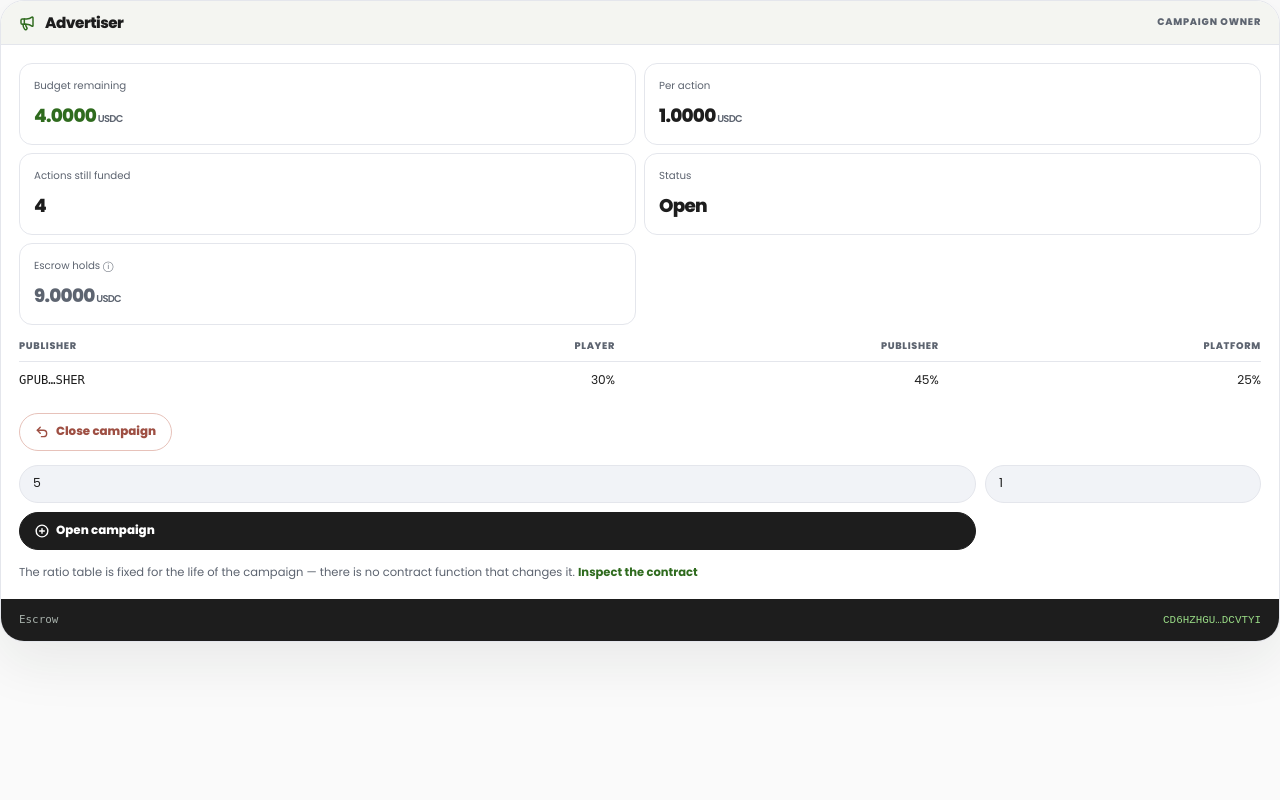
Test: advertiser panel › shows what the refund returned when the campaign is closed
The width and height of the screenshot is (1280, 800).
Check: the text "Budget remaining" is shown, box top-left (34, 78), bottom-right (126, 93)
Step 1. Click the button "Close campaign" → (96,432), box top-left (19, 412), bottom-right (172, 450)
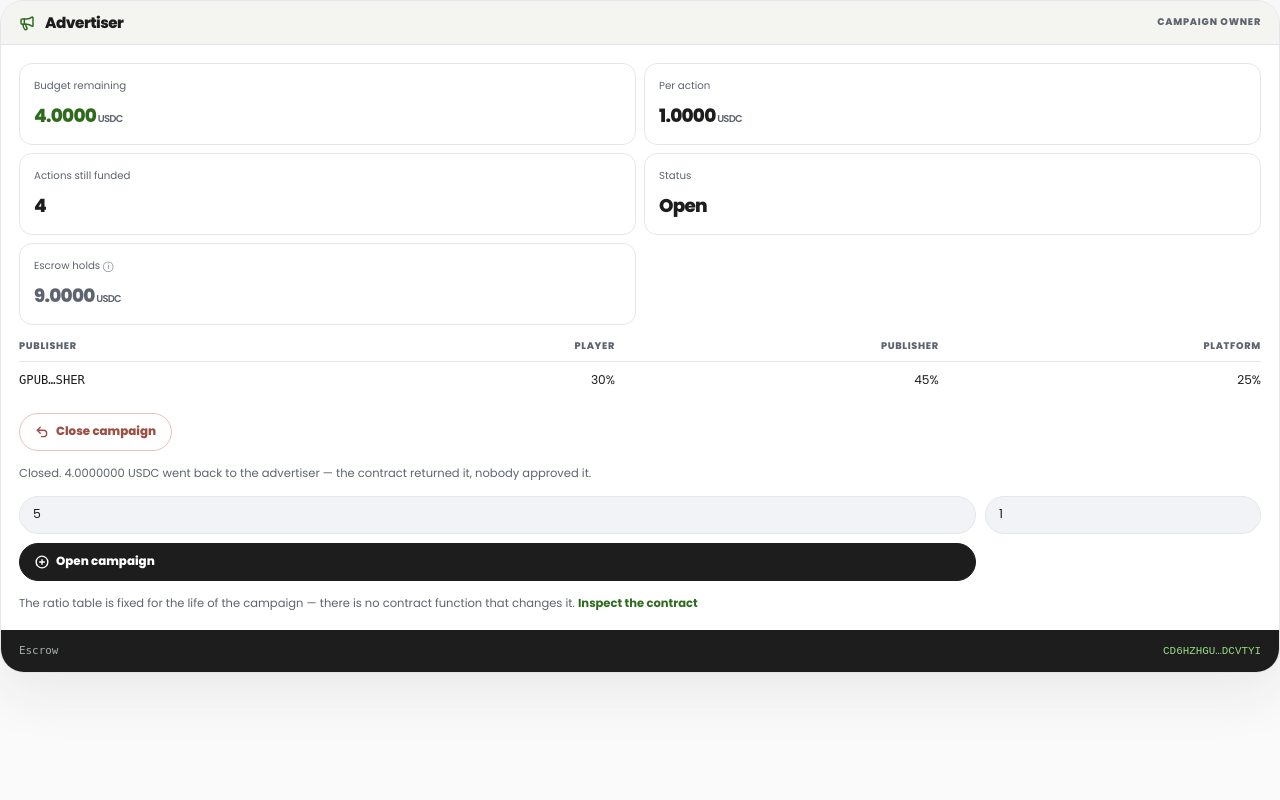
Check: the text "4.0000000" is shown, box top-left (64, 464), bottom-right (125, 480)
